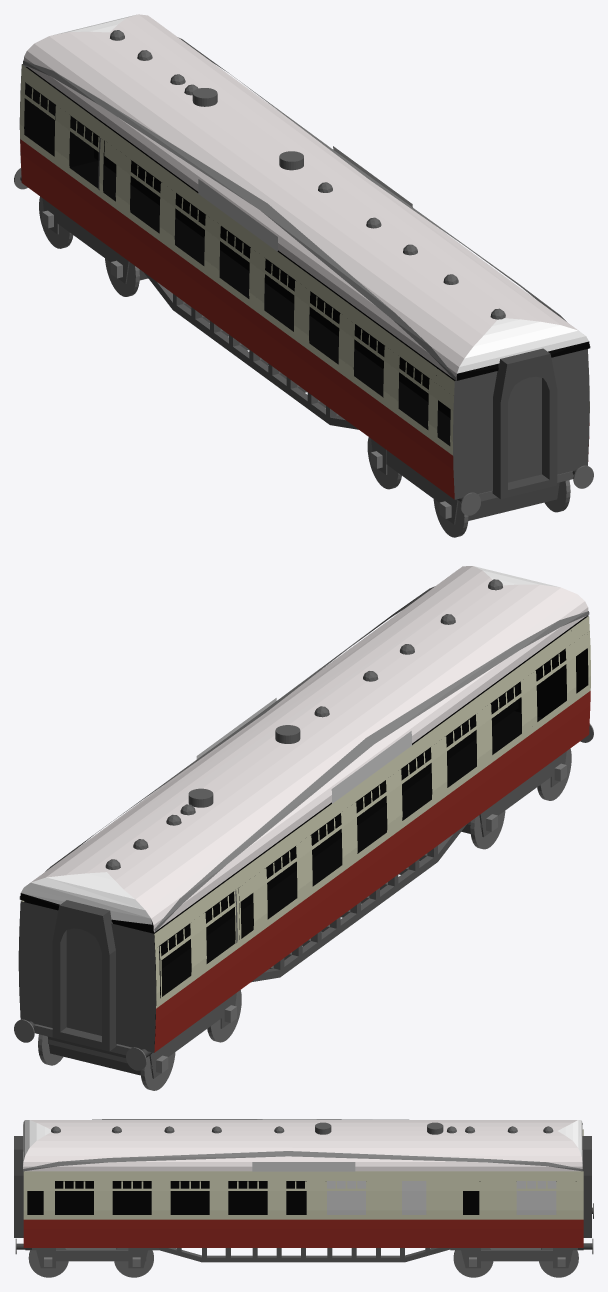
File: lner-gresley-express-buffet-cc.dae
3 views of the same model, one above another, from view 1: azimuth 30°, elevation 25°; view 2: azimuth 150°, elevation 25°; view 3: azimuth 270°, elevation 25° (orthographic). The views are drawn at different scales.
Visible parts, largest first — view 1: Suzanne_001, Plane_007, Plane_001, Plane_012, Plane_019, Tube_004, Suzanne_003, Plane_006, Plane_005, Plane_158, Plane_027, Cube_060 (+13 smaller); view 2: Suzanne_001, Plane_007, Plane_070, Plane_012, Plane_019, Tube_002, Suzanne_003, Plane_006, Plane_005, Plane_158, Plane_026, Cube_070 (+12 smaller); view 3: Suzanne_001, Plane_358, Plane_019, Suzanne_004, Plane_357, Plane_359, Plane_332, Plane_500, Plane_486, Cube_043, Cube_072, Plane_467 (+28 smaller).
Boxes of the visible parts, x1,y1,x2,y2 form: Suzanne_001: [23, 14, 589, 380]; Plane_007: [20, 139, 454, 499]; Plane_001: [452, 349, 589, 499]; Plane_012: [70, 161, 450, 445]; Plane_019: [94, 116, 455, 418]; Tube_004: [492, 348, 557, 499]; Suzanne_003: [23, 60, 455, 380]; Plane_006: [21, 72, 454, 395]; Plane_005: [20, 132, 452, 455]; Plane_158: [42, 80, 436, 375]; Plane_027: [24, 67, 97, 167]; Cube_060: [447, 471, 573, 524]; Suzanne_001: [20, 566, 588, 932]; Plane_007: [154, 691, 590, 1052]; Plane_070: [18, 901, 156, 1052]; Plane_012: [154, 711, 542, 1043]; Plane_019: [157, 666, 518, 970]; Tube_002: [52, 900, 116, 1051]; Suzanne_003: [154, 611, 589, 932]; Plane_006: [154, 623, 589, 948]; Plane_005: [156, 683, 590, 1008]; Plane_158: [175, 629, 571, 925]; Plane_026: [515, 616, 588, 717]; Cube_070: [34, 1024, 165, 1078]; Suzanne_001: [23, 1120, 582, 1171]; Plane_358: [23, 1219, 583, 1247]; Plane_019: [27, 1181, 576, 1214]; Suzanne_004: [23, 1151, 582, 1171]; Plane_357: [23, 1215, 583, 1219]; Plane_359: [23, 1176, 583, 1180]; Plane_332: [46, 1171, 556, 1175]; Plane_500: [516, 1181, 556, 1214]; Plane_486: [326, 1181, 365, 1214]; Cube_043: [56, 1248, 146, 1261]; Cube_072: [481, 1248, 570, 1261]; Plane_467: [366, 1181, 401, 1214].
Size of the model in its own units: 1.96 by 10.97 by 2.84.
